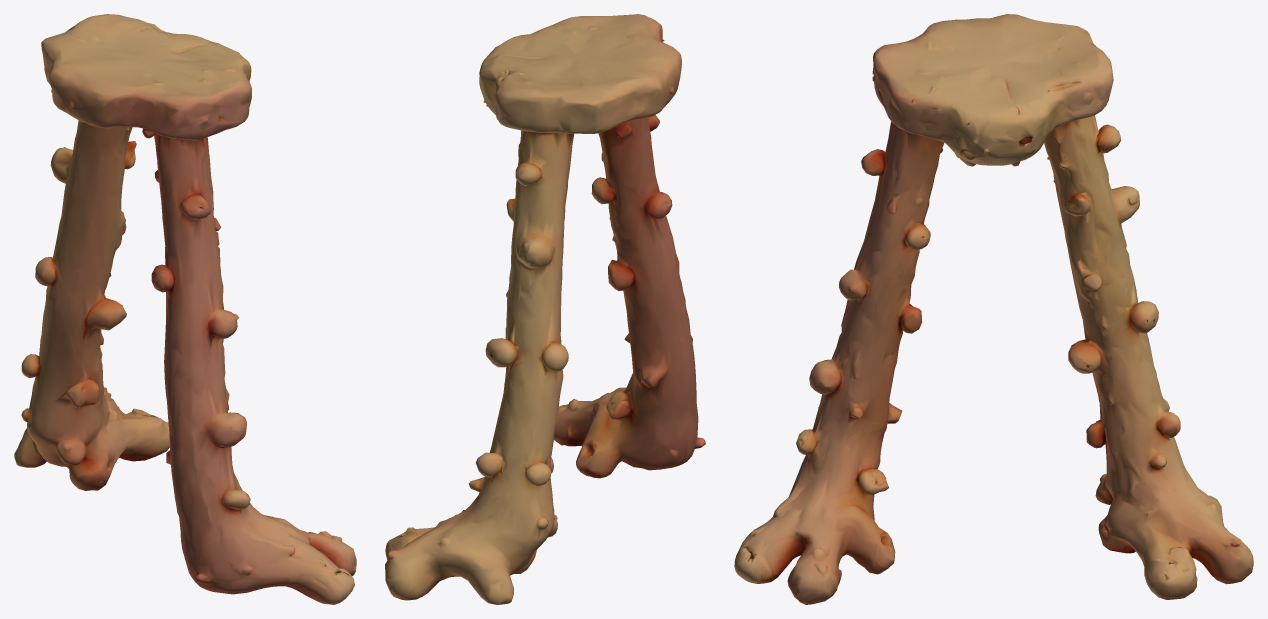
The model's file is legs.glb.
3 renders of one model, left to right at view 1: azimuth 30°, elevation 25°; view 2: azimuth 150°, elevation 25°; view 3: azimuth 270°, elevation 25°, orthographic. The views are drawn at different scales.
Parts seen in each view (by area): view 1: tripo_node_cae1e7bc-7e37-4b0b-a380-45373cd24b63; view 2: tripo_node_cae1e7bc-7e37-4b0b-a380-45373cd24b63; view 3: tripo_node_cae1e7bc-7e37-4b0b-a380-45373cd24b63.
Part boxes in pixels (left/top/right/bottom): tripo_node_cae1e7bc-7e37-4b0b-a380-45373cd24b63: left=14, top=14, right=356, bottom=604; tripo_node_cae1e7bc-7e37-4b0b-a380-45373cd24b63: left=385, top=14, right=705, bottom=604; tripo_node_cae1e7bc-7e37-4b0b-a380-45373cd24b63: left=734, top=14, right=1253, bottom=604.
Size of the model in its own units: 0.4458 by 1 by 0.9432.
1 material, 1 textured.
